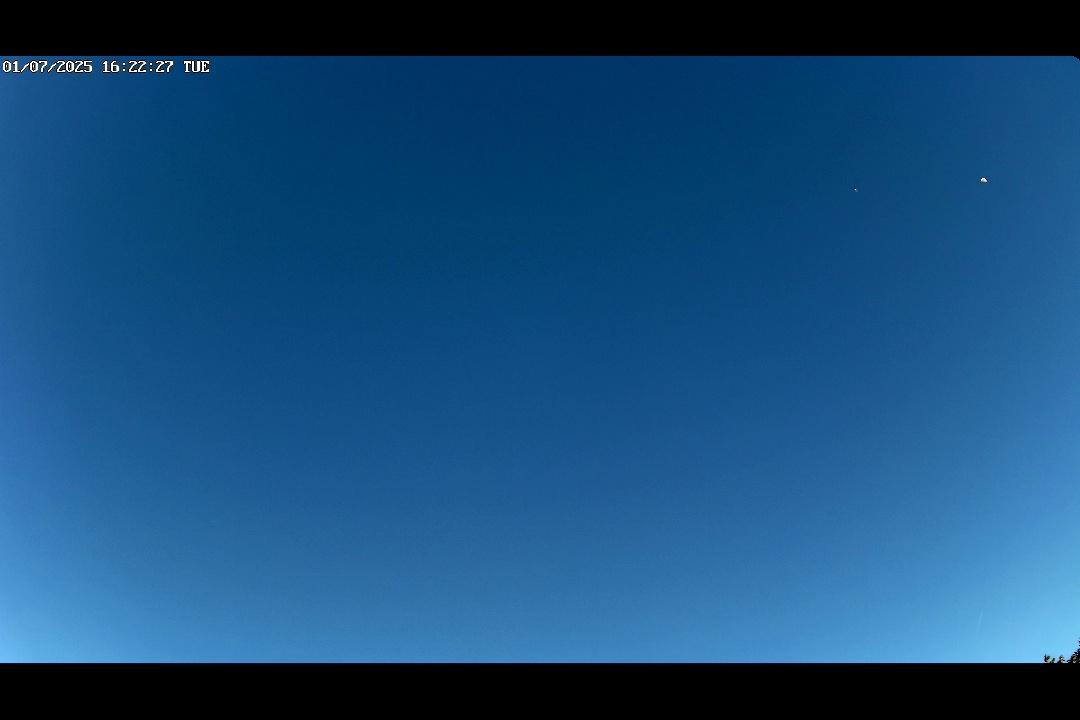WildLife: (850, 187, 860, 193)
